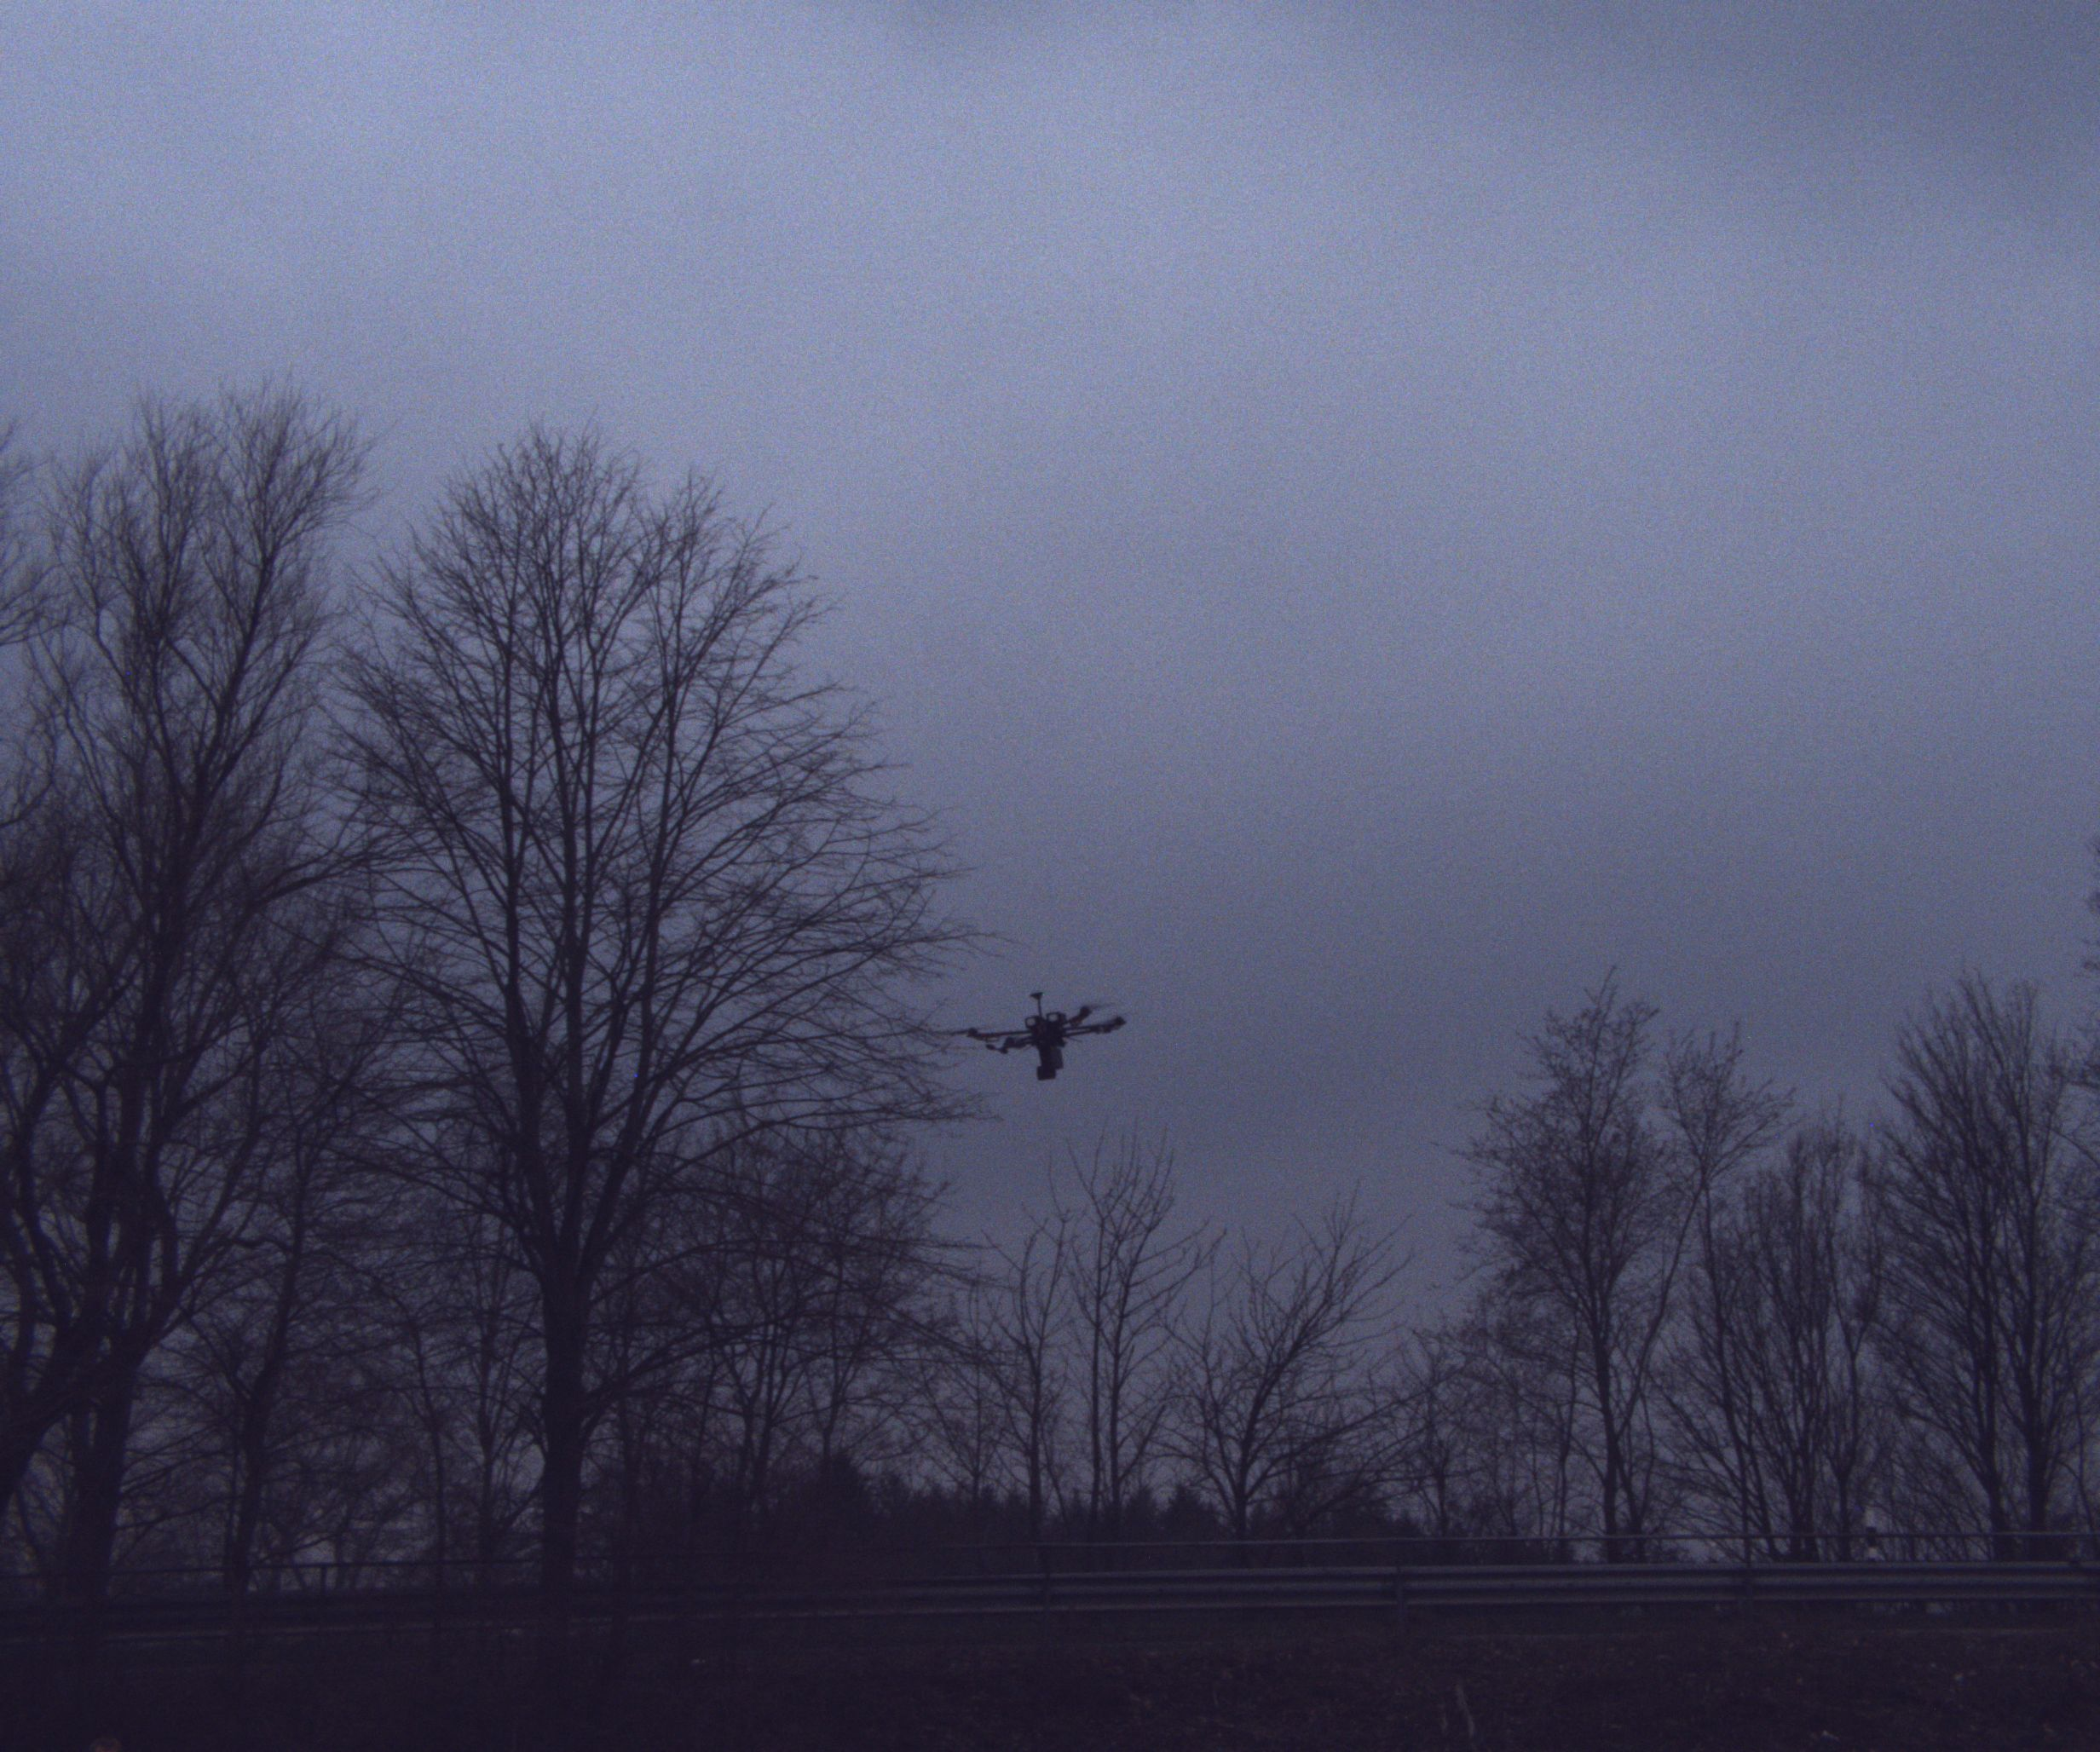Drohne: (947, 964, 1228, 1093)
